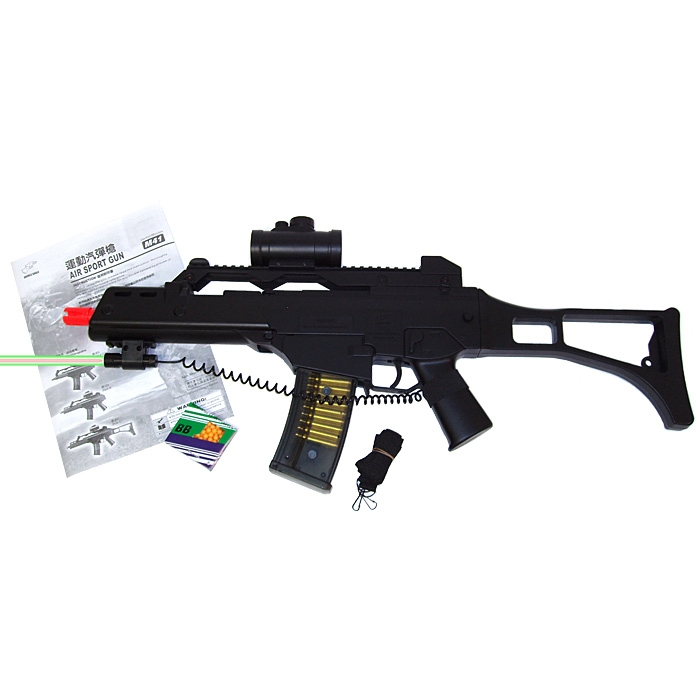rifle: (72, 168, 684, 502)
